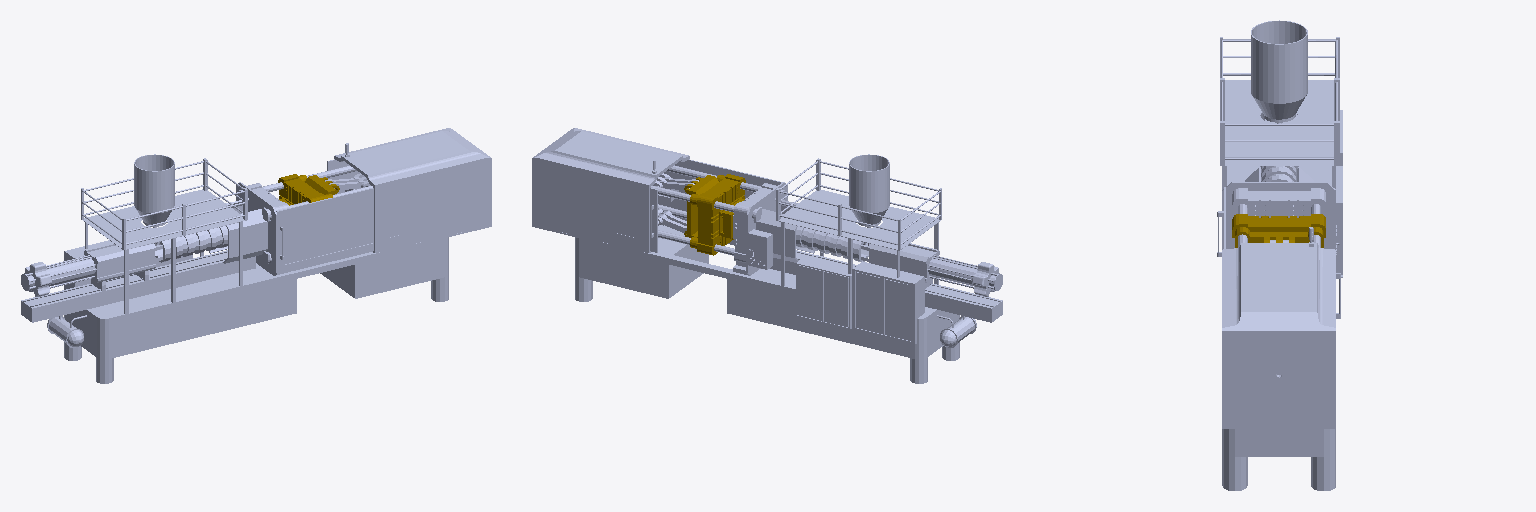
The robot description file, URDF, robot "Assem1.STEP":
<?xml version="1.0" encoding="utf-8"?>
<!-- This URDF was automatically created by SolidWorks to URDF Exporter! Originally created by Stephen Brawner (brawner@gmail.com) 
     Commit Version: 1.6.0-4-g7f85cfe  Build Version: 1.6.7995.38578
     For more information, please see http://wiki.ros.org/sw_urdf_exporter -->
<robot
  name="Assem1.STEP">
  <link
    name="base_link">
    <inertial>
      <origin
        xyz="-0.249230495450032 0.0678559941684953 0.93360518628555"
        rpy="0 0 0" />
      <mass
        value="22635.0080369144" />
      <inertia
        ixx="8277.98773703151"
        ixy="128.677868532024"
        ixz="-121.838849431614"
        iyy="126024.72401148"
        iyz="147.040853396298"
        izz="127832.021108156" />
    </inertial>
    <visual>
      <origin
        xyz="0 0 0"
        rpy="0 0 0" />
      <geometry>
        <mesh
          filename="package://Assem1.STEP/meshes/base_link.STL" />
      </geometry>
      <material
        name="">
        <color
          rgba="0.792156862745098 0.819607843137255 0.933333333333333 1" />
      </material>
    </visual>
    <collision>
      <origin
        xyz="0 0 0"
        rpy="0 0 0" />
      <geometry>
        <mesh
          filename="package://Assem1.STEP/meshes/base_link.STL" />
      </geometry>
    </collision>
  </link>
  <link
    name="molding">
    <inertial>
      <origin
        xyz="1.20877891894546 -9.84661095948525E-06 1.90099997947244"
        rpy="0 0 0" />
      <mass
        value="1066.34140420998" />
      <inertia
        ixx="298.745276880822"
        ixy="6.70490565298063E-06"
        ixz="-6.70490563854861E-06"
        iyy="205.580537184973"
        iyz="-1.45820368849147E-05"
        izz="199.367142612277" />
    </inertial>
    <visual>
      <origin
        xyz="0 0 0"
        rpy="0 0 0" />
      <geometry>
        <mesh
          filename="package://Assem1.STEP/meshes/molding.STL" />
      </geometry>
      <material
        name="">
        <color
          rgba="0.647058823529412 0.517647058823529 0 1" />
      </material>
    </visual>
    <collision>
      <origin
        xyz="0 0 0"
        rpy="0 0 0" />
      <geometry>
        <mesh
          filename="package://Assem1.STEP/meshes/molding.STL" />
      </geometry>
    </collision>
  </link>
  <joint
    name="joint1"
    type="prismatic">
    <origin
      xyz="0 0 0"
      rpy="0 0 0" />
    <parent
      link="base_link" />
    <child
      link="molding" />
    <axis
      xyz="1 0 0" />
    <limit
      lower="0"
      upper="0"
      effort="0"
      velocity="0" />
  </joint>
</robot>

--- Facts derived from the render (not from the file) ---
The picture shows the robot from 3 angles, left to right: view 1: azimuth 30°, elevation 25°; view 2: azimuth 150°, elevation 25°; view 3: azimuth 270°, elevation 25°; orthographic projection.
Model Assem1.STEP with 2 links and 1 joints (1 prismatic), rooted at base_link, posed every joint at zero.
Visible links, largest first — view 1: base_link, molding; view 2: base_link, molding; view 3: base_link, molding.
Boxes of the visible links, x1,y1,x2,y2 form: base_link: (21,128,491,383); molding: (278,174,339,205); base_link: (532,128,1002,383); molding: (684,174,745,255); base_link: (1217,20,1342,490); molding: (1232,214,1325,247).
Size in the robot's own frame: 11.47 by 1.98 by 4.66 metres.
2 mesh visuals loaded from 2 distinct referenced files (2 binary STL).
